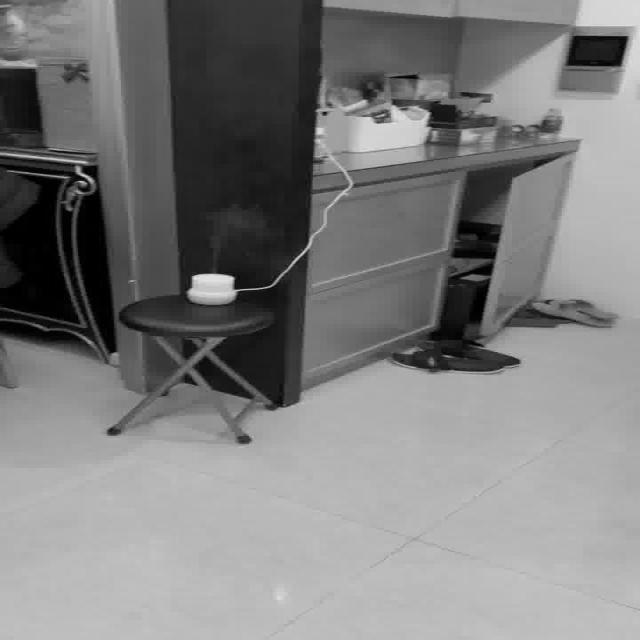fire: (198, 203, 273, 266)
